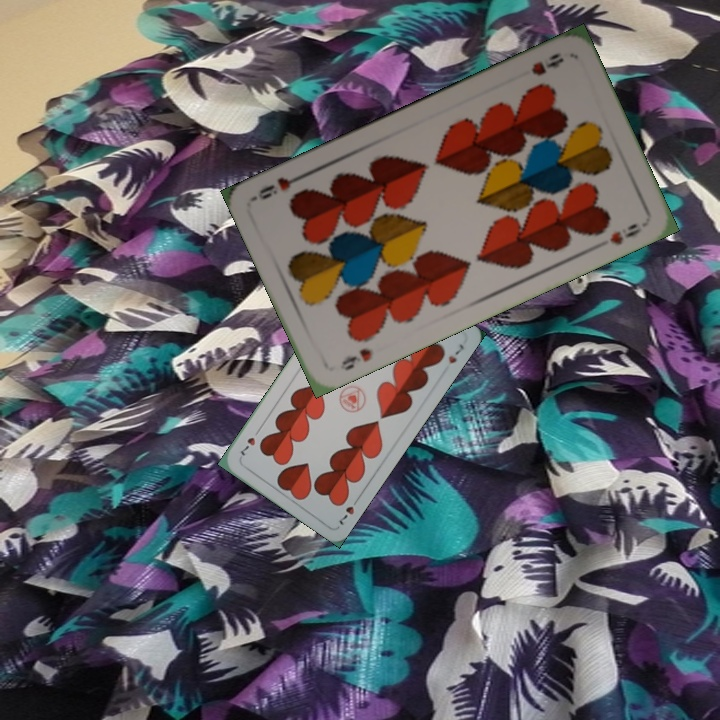H7: (335, 493, 362, 528)
H9: (336, 344, 375, 374), (527, 49, 567, 78)
